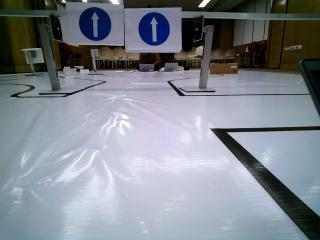straight: (125, 10, 182, 54), (68, 2, 122, 46)
